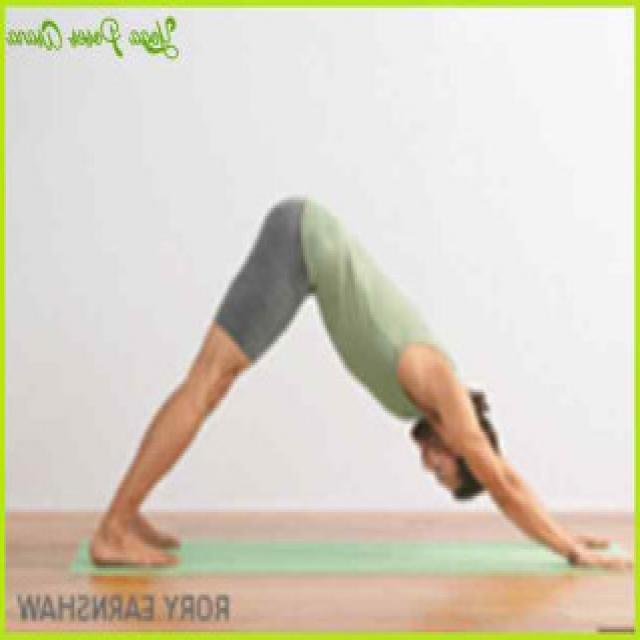yoga-pose downward: (75, 188, 607, 570)
